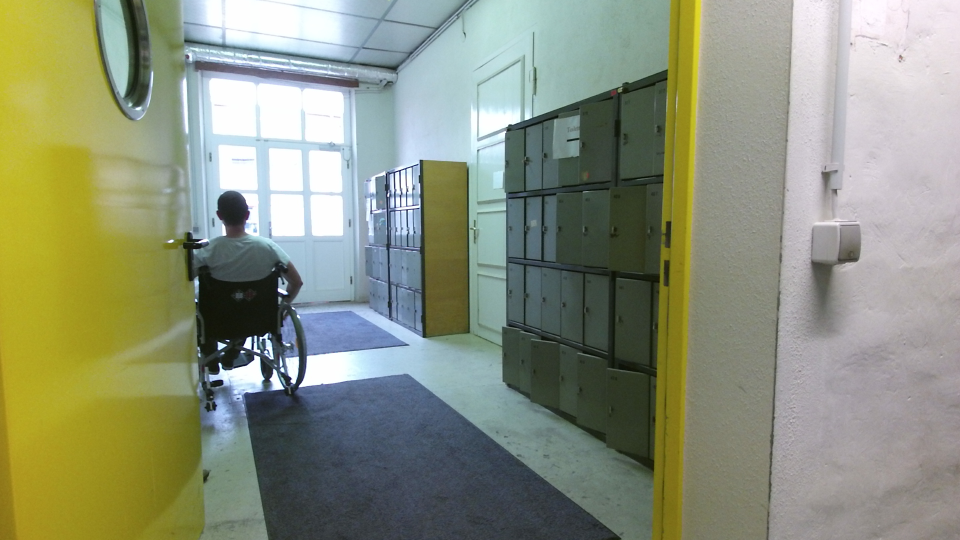wheelchair: (194, 185, 313, 410)
